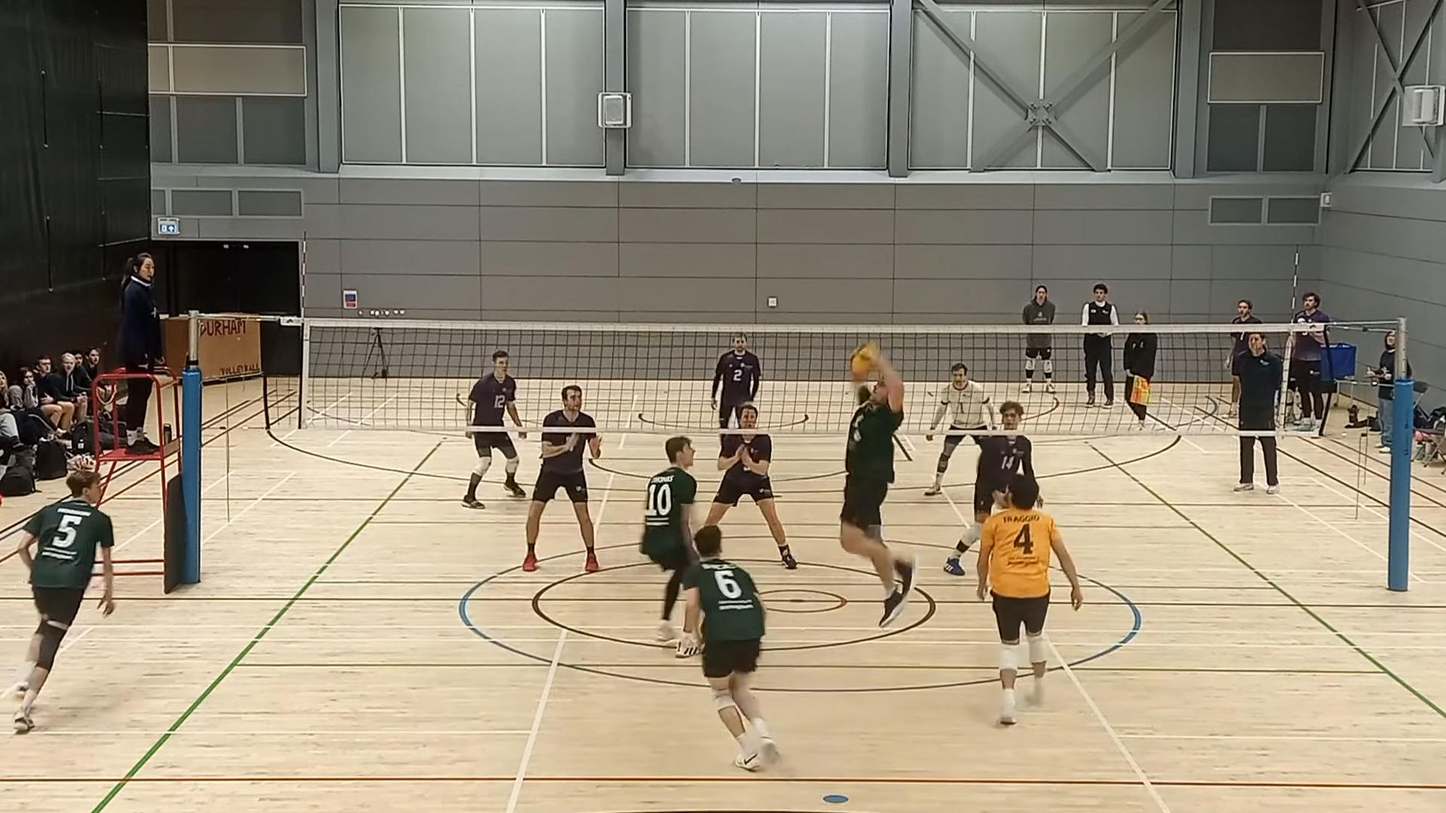alzata: (841, 340, 918, 623)
